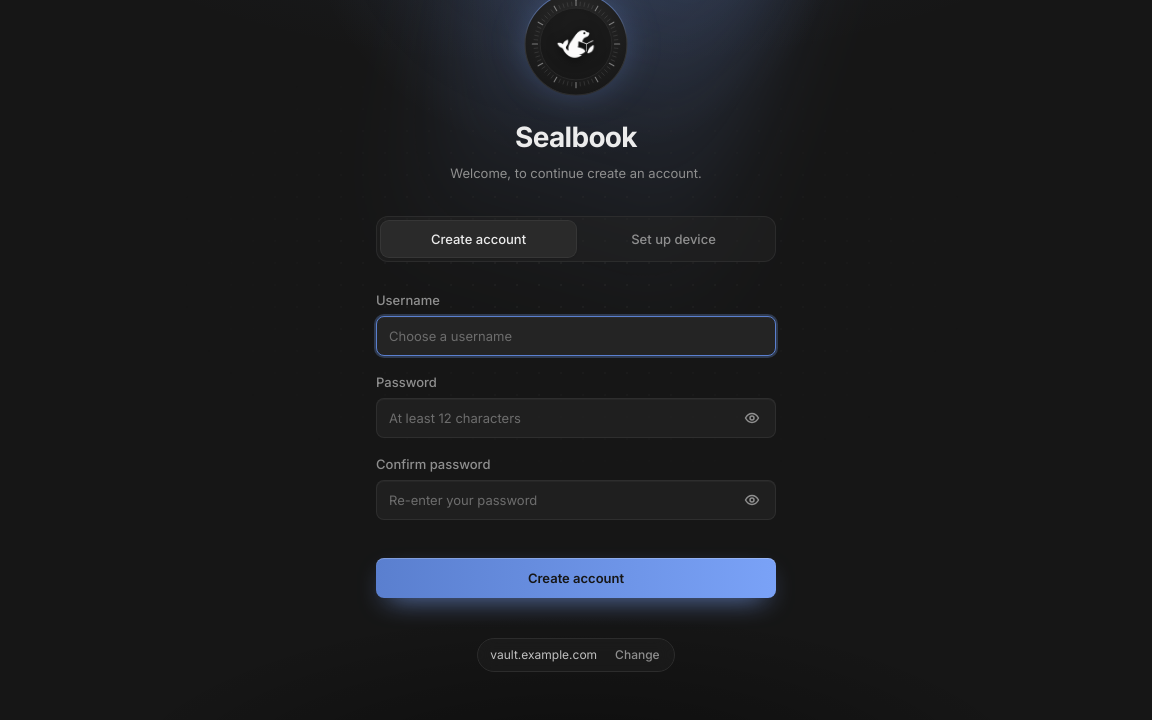
AuthScreen, the server in front of it › changes a configured server, and keeps the dialog open on a bad address
(page scrolled)
Click the button "Change" at (637, 655), box left=605, top=643, right=670, bottom=667
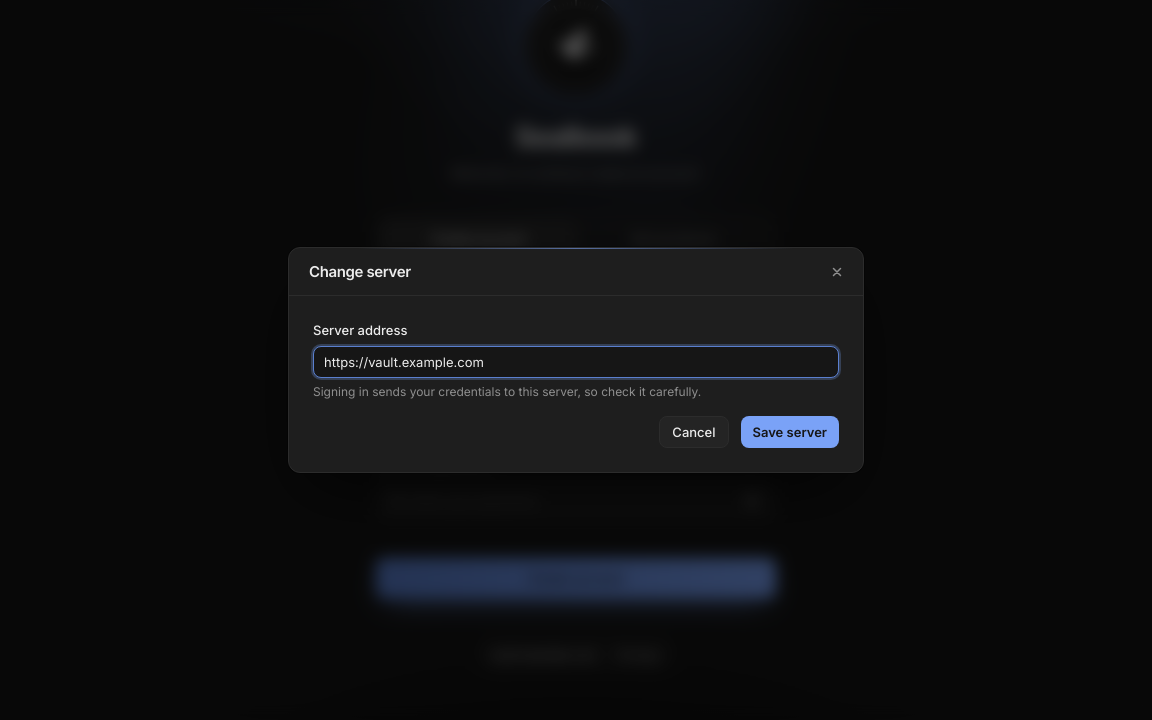
Replace the text in the field labelled "Server address" with "not a server" at (576, 362), box left=313, top=346, right=839, bottom=378
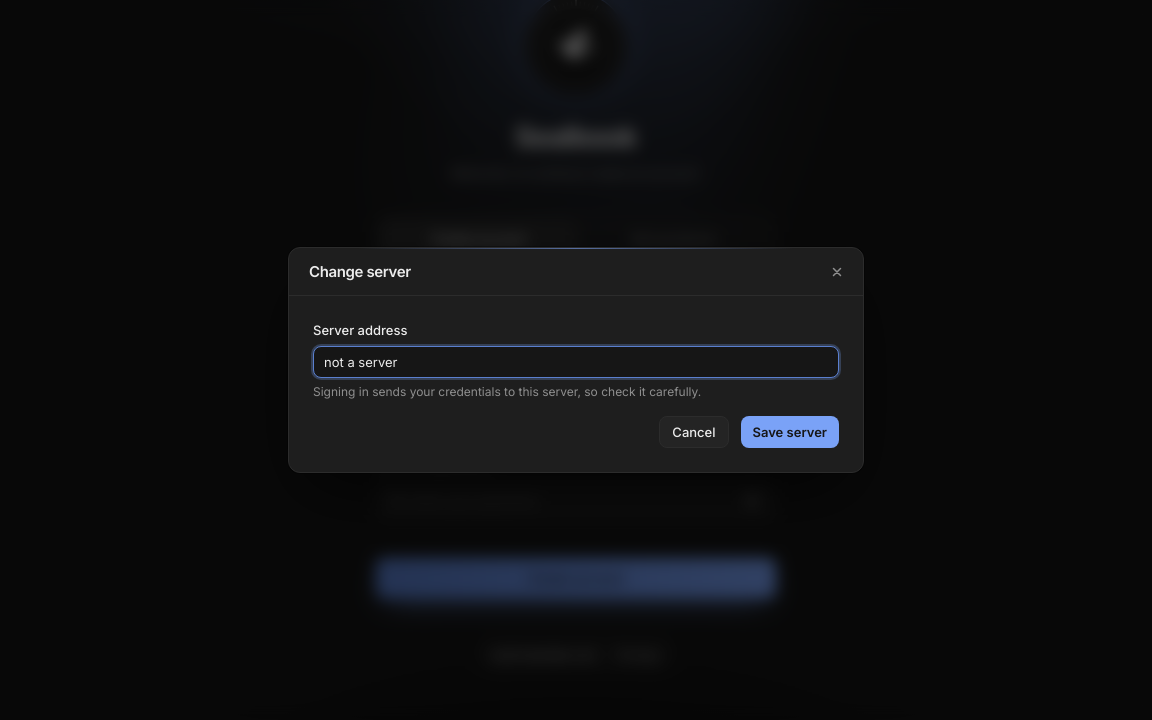
Click the button "Save server" at (790, 432), box left=740, top=416, right=839, bottom=448
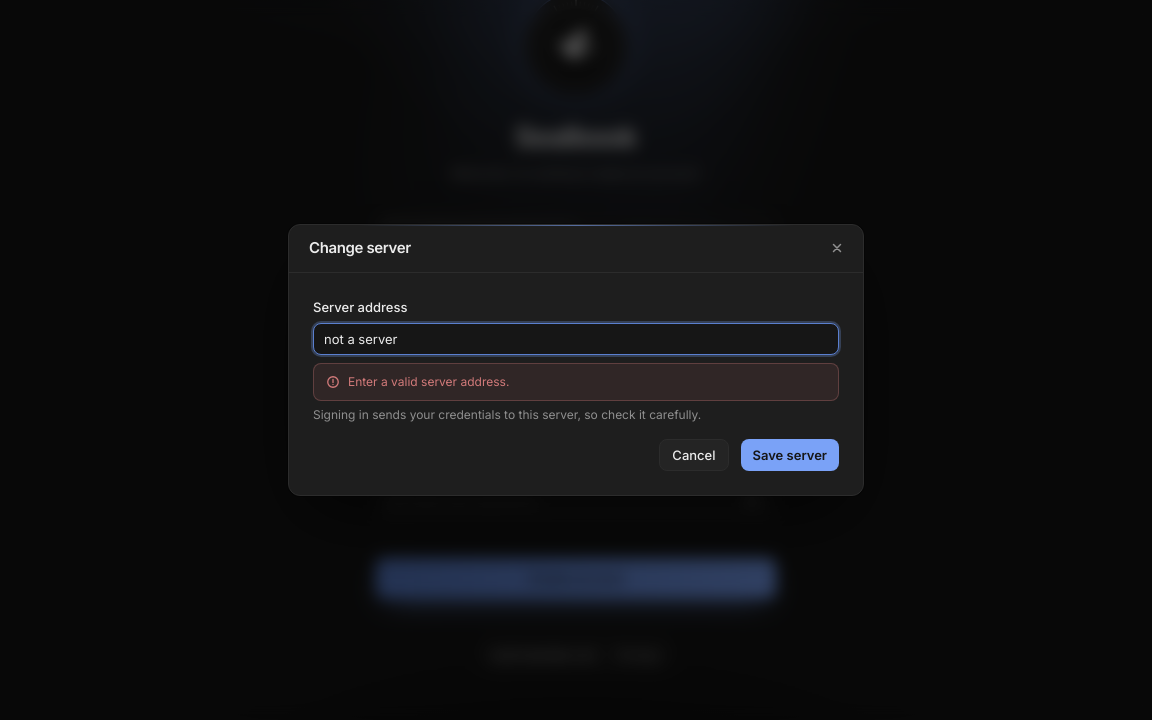
Expected: the message reads "Enter a valid server address.", left=348, top=374, right=509, bottom=389
